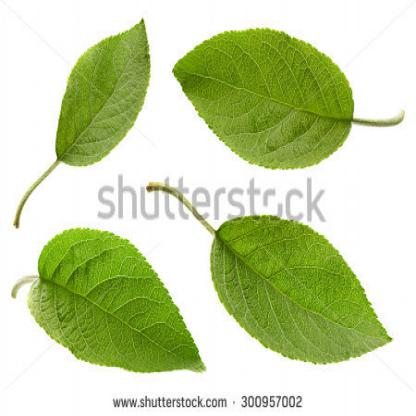apple leaf: (170, 16, 385, 191), (200, 204, 405, 380), (24, 215, 219, 383), (52, 20, 165, 180)
